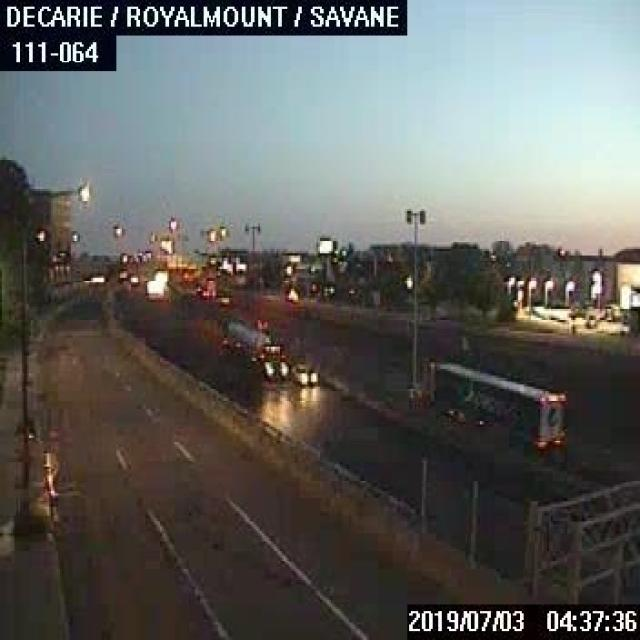vehicle: (418, 360, 564, 451), (220, 318, 287, 378), (288, 360, 317, 385)
